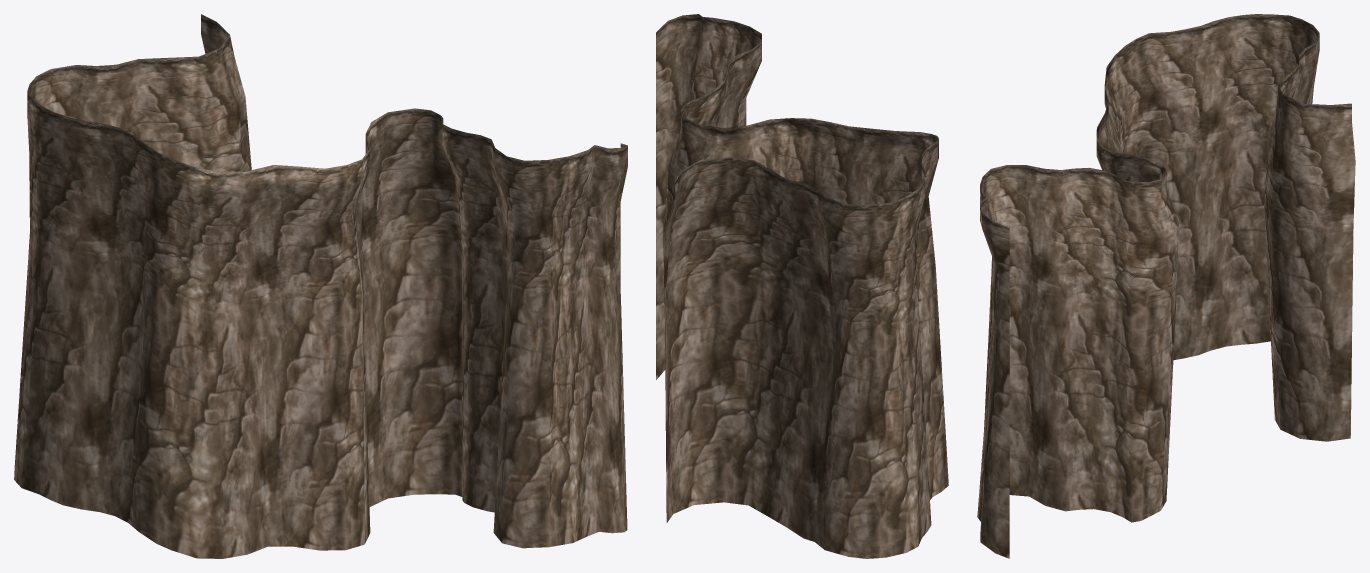
The model's file is OVERHILL_A_01_LINE70.fbx.
The picture shows the model from 3 angles, left to right: view 1: azimuth 30°, elevation 25°; view 2: azimuth 150°, elevation 25°; view 3: azimuth 270°, elevation 25°; orthographic projection. The views are drawn at different scales.
Parts seen in each view (by area): view 1: OVERHILL_A_01_LINE70; view 2: OVERHILL_A_01_LINE70; view 3: OVERHILL_A_01_LINE70.
Part boxes in pixels (box(x1,y1,x2,y2)): OVERHILL_A_01_LINE70: box(14, 14, 627, 558); OVERHILL_A_01_LINE70: box(656, 14, 948, 558); OVERHILL_A_01_LINE70: box(977, 14, 1355, 558).
Bounding box in the file's own units: 229592 × 211544 × 196947.
Materials: 2 (2 with a texture image).
